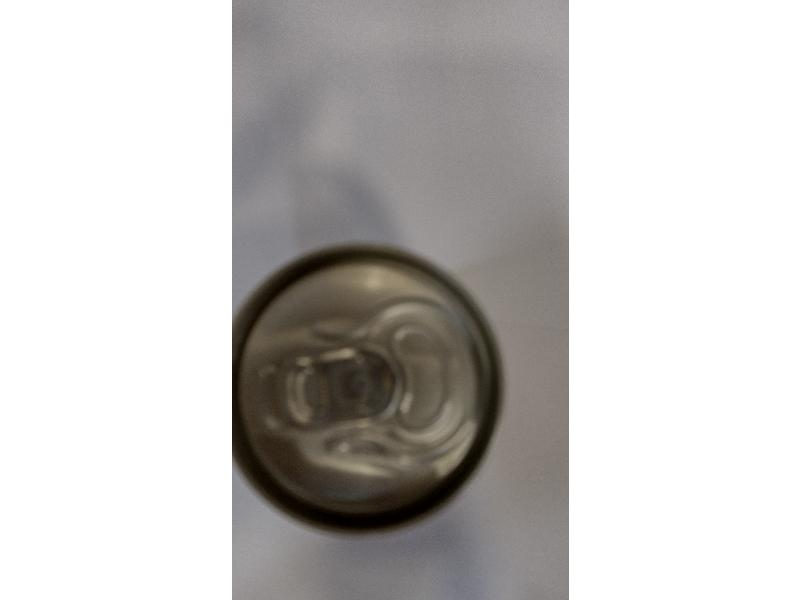can: (232, 235, 514, 545)
